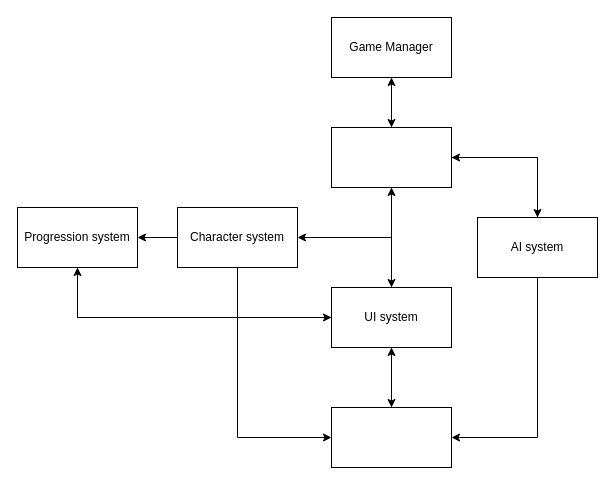
Some shapes in this 615 by 485 pixel diagram are drawn without their labels. Each missing label, with the centre of its shape:
"Ability system" belongs at point 391,437.
"Combat system" belongs at point 391,157.
